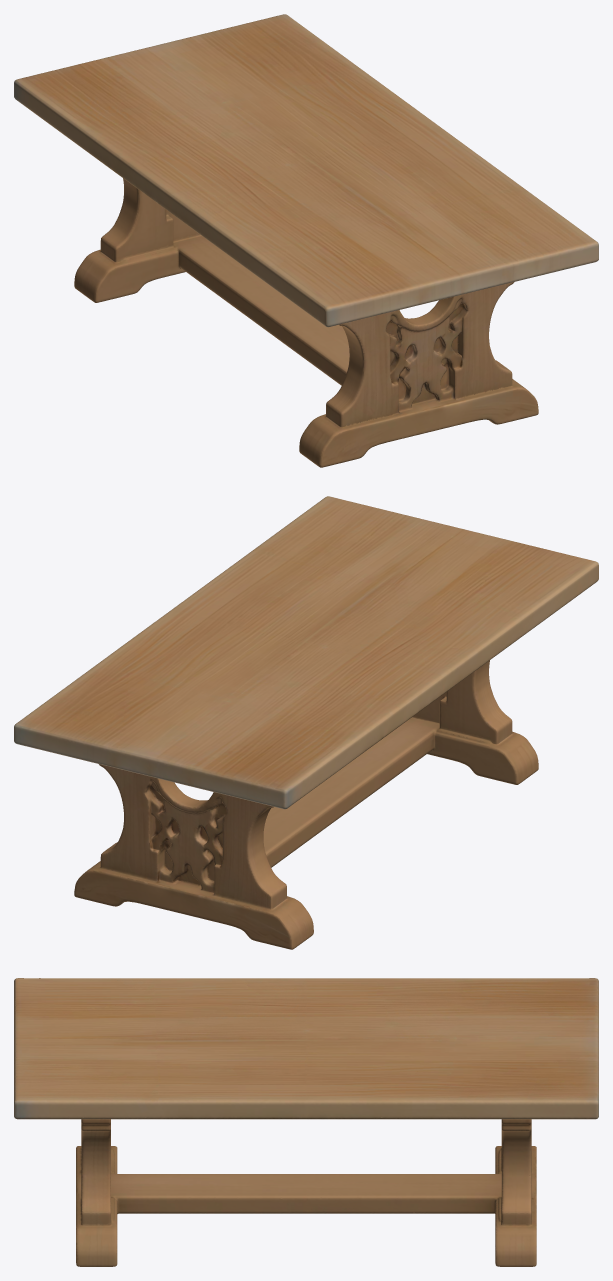
File: detailed_realistic_model_largeoaktable_12.glb
3 views of the same model, one above another, from view 1: azimuth 30°, elevation 25°; view 2: azimuth 150°, elevation 25°; view 3: azimuth 270°, elevation 25° (orthographic). The views are drawn at different scales.
Parts seen in each view (by area): view 1: tripo_node_252b3566-548a-4d6a-965d-972b40a7d766; view 2: tripo_node_252b3566-548a-4d6a-965d-972b40a7d766; view 3: tripo_node_252b3566-548a-4d6a-965d-972b40a7d766.
Boxes of the visible parts, bbox=[...] form: tripo_node_252b3566-548a-4d6a-965d-972b40a7d766: bbox=[14, 14, 598, 467]; tripo_node_252b3566-548a-4d6a-965d-972b40a7d766: bbox=[14, 496, 598, 949]; tripo_node_252b3566-548a-4d6a-965d-972b40a7d766: bbox=[14, 978, 598, 1266].
Size of the model in its own units: 0.5033 by 0.3371 by 1.
1 material, 1 textured.
